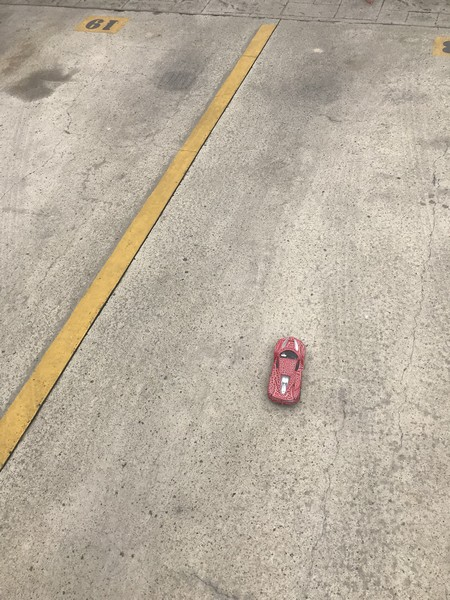RC: (266, 336, 304, 407)
